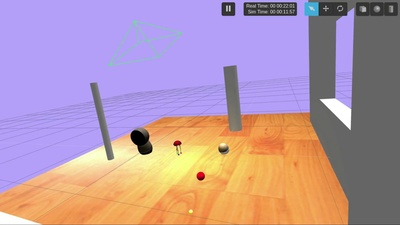mira_robot: (219, 144, 229, 153)
